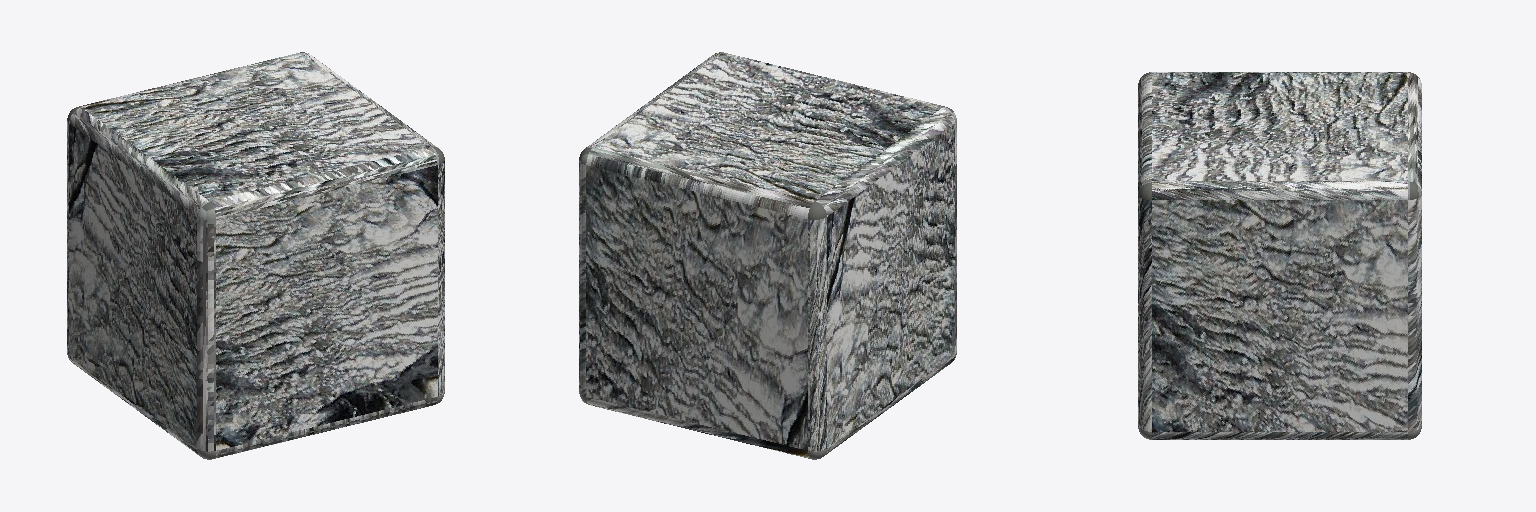
3 renders of one model, left to right at view 1: azimuth 30°, elevation 25°; view 2: azimuth 150°, elevation 25°; view 3: azimuth 270°, elevation 25°, orthographic.
Parts seen in each view (by area): view 1: Cube; view 2: Cube; view 3: Cube.
Boxes of the visible parts, box(x1,y1,x2,y2) form: Cube: box(67, 52, 444, 459); Cube: box(579, 52, 956, 459); Cube: box(1138, 72, 1421, 439).
Size of the model in its own units: 2 by 2 by 2.
1 materials, 1 textured.